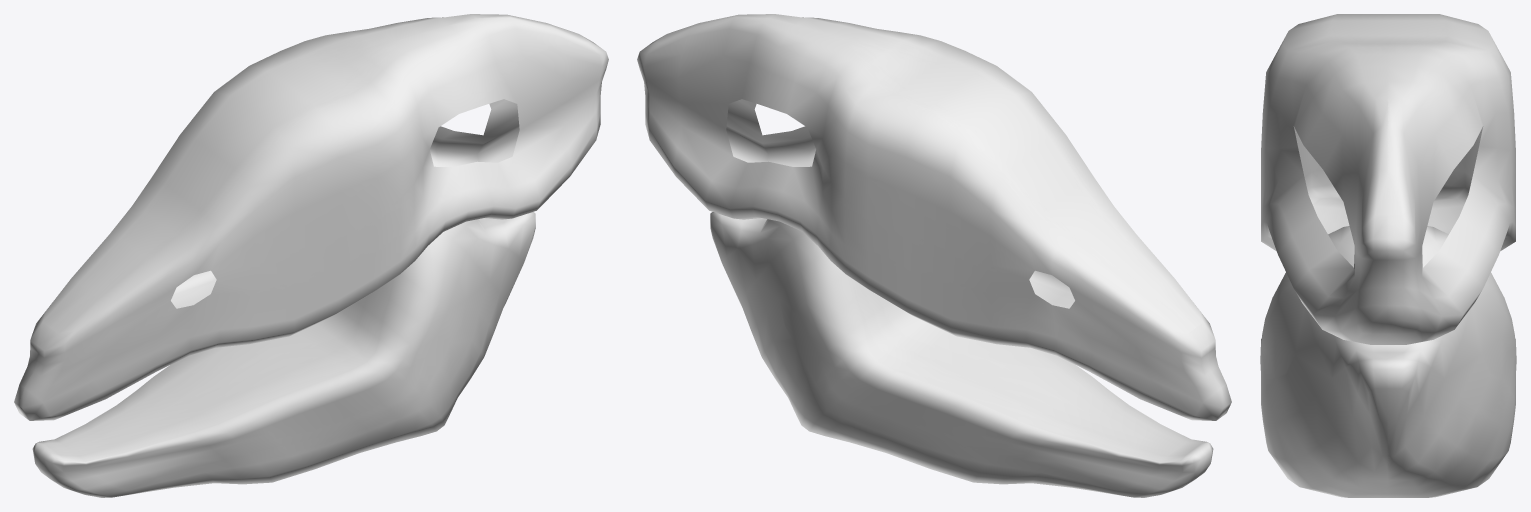
The model's file is zugaikotu.fbx.
The picture shows the model from 3 angles, left to right: view 1: azimuth 30°, elevation 25°; view 2: azimuth 150°, elevation 25°; view 3: azimuth 270°, elevation 25°; orthographic projection. The views are drawn at different scales.
Parts seen in each view (by area): view 1: pCube27; view 2: pCube27; view 3: pCube27.
Part boxes in pixels (x1,y1,x2,y2): pCube27: [14, 14, 608, 497]; pCube27: [637, 14, 1231, 497]; pCube27: [1260, 14, 1516, 497].
Bounding box in the file's own units: 76.26 × 48.25 × 24.5.
